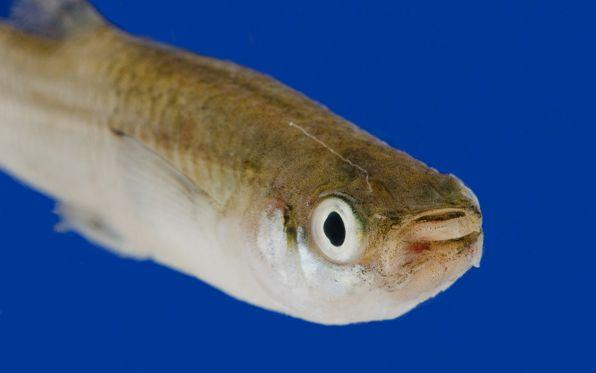Mosquito Fish: (1, 0, 484, 325)
